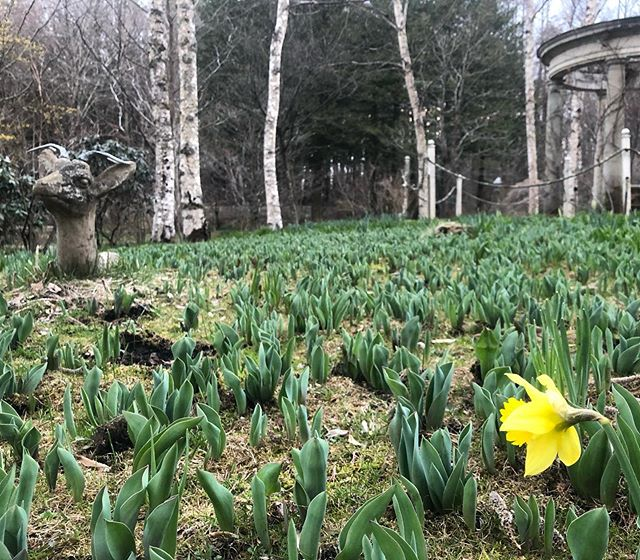flowers: (478, 359, 618, 501)
vegetation: (33, 225, 640, 560), (1, 1, 596, 211)
